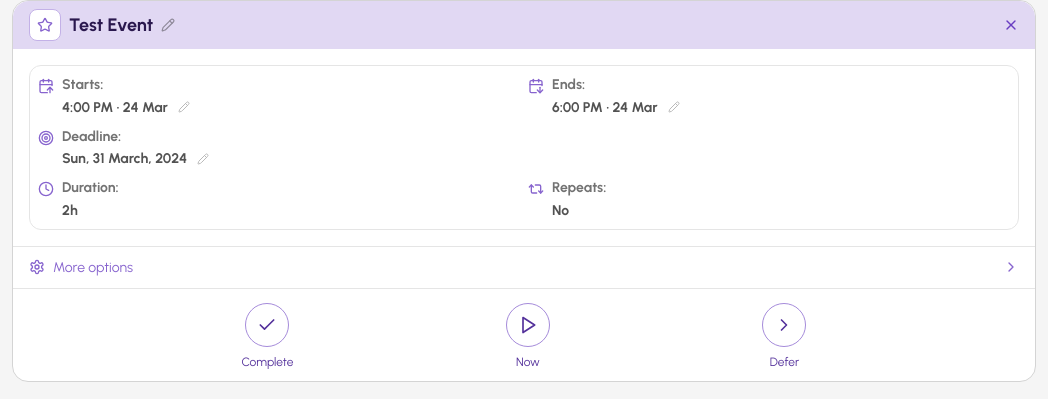
CalendarEventInfo – Action Buttons › Defer action › shows duration picker when Defer button is clicked
Click the button titled "Defer".
click(784, 337)  # box [762,303,806,371]
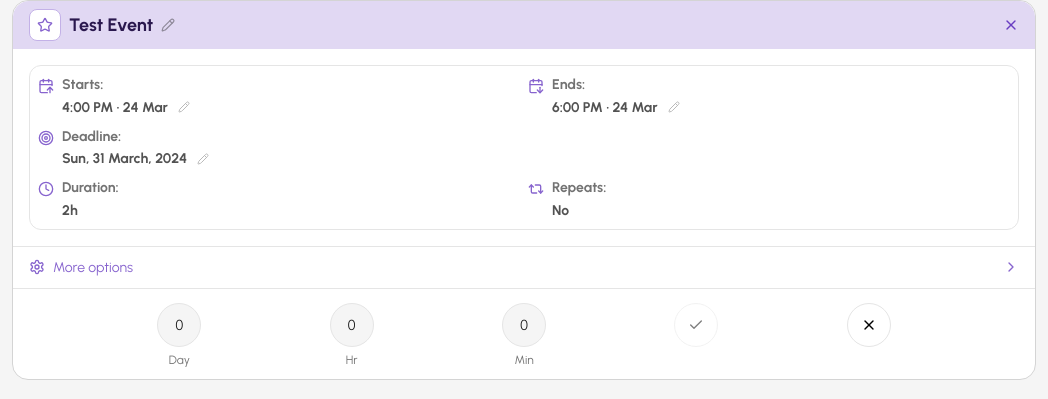
Now the number field named "Days" is shown, box [157,303,201,347]
Now the number field named "Hours" is shown, box [330,303,374,347]
Now the number field named "Minutes" is shown, box [502,303,546,347]
